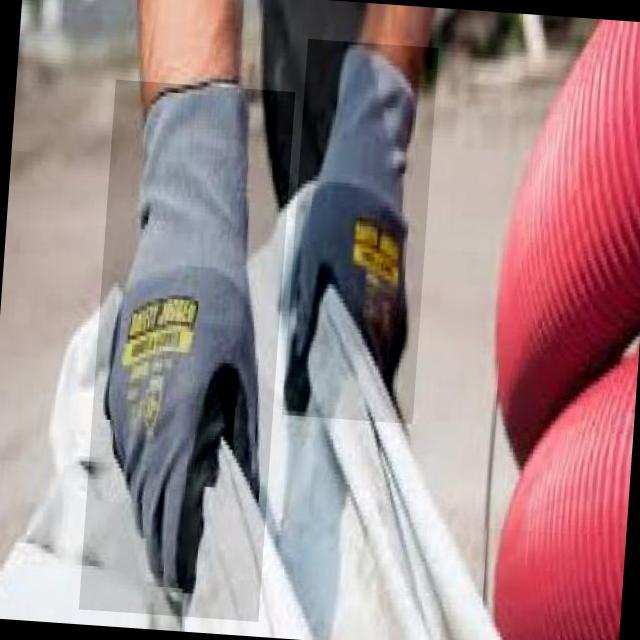Gloves: (78, 80, 295, 622), (282, 39, 439, 424)
